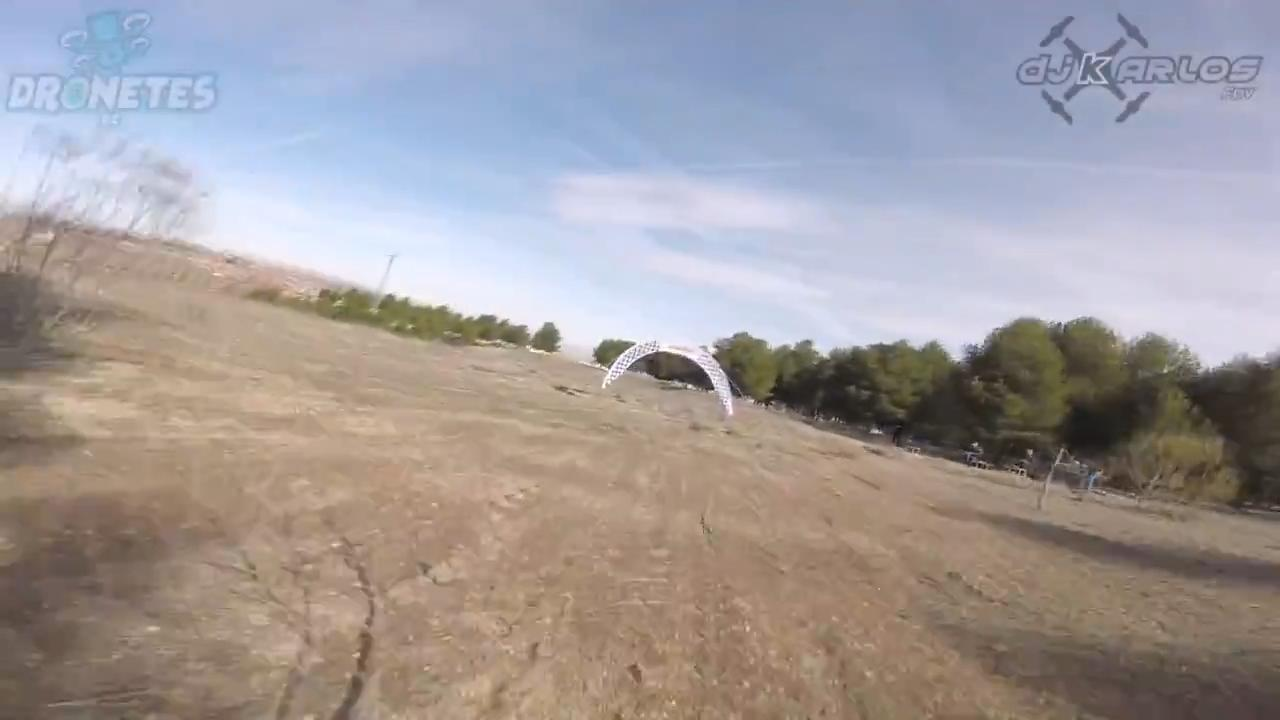gate: (603, 336, 739, 422)
